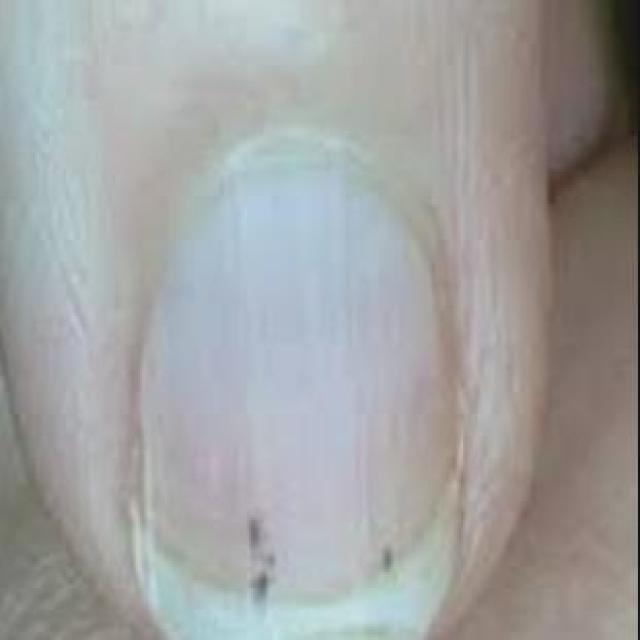Nail: (133, 170, 464, 640)
